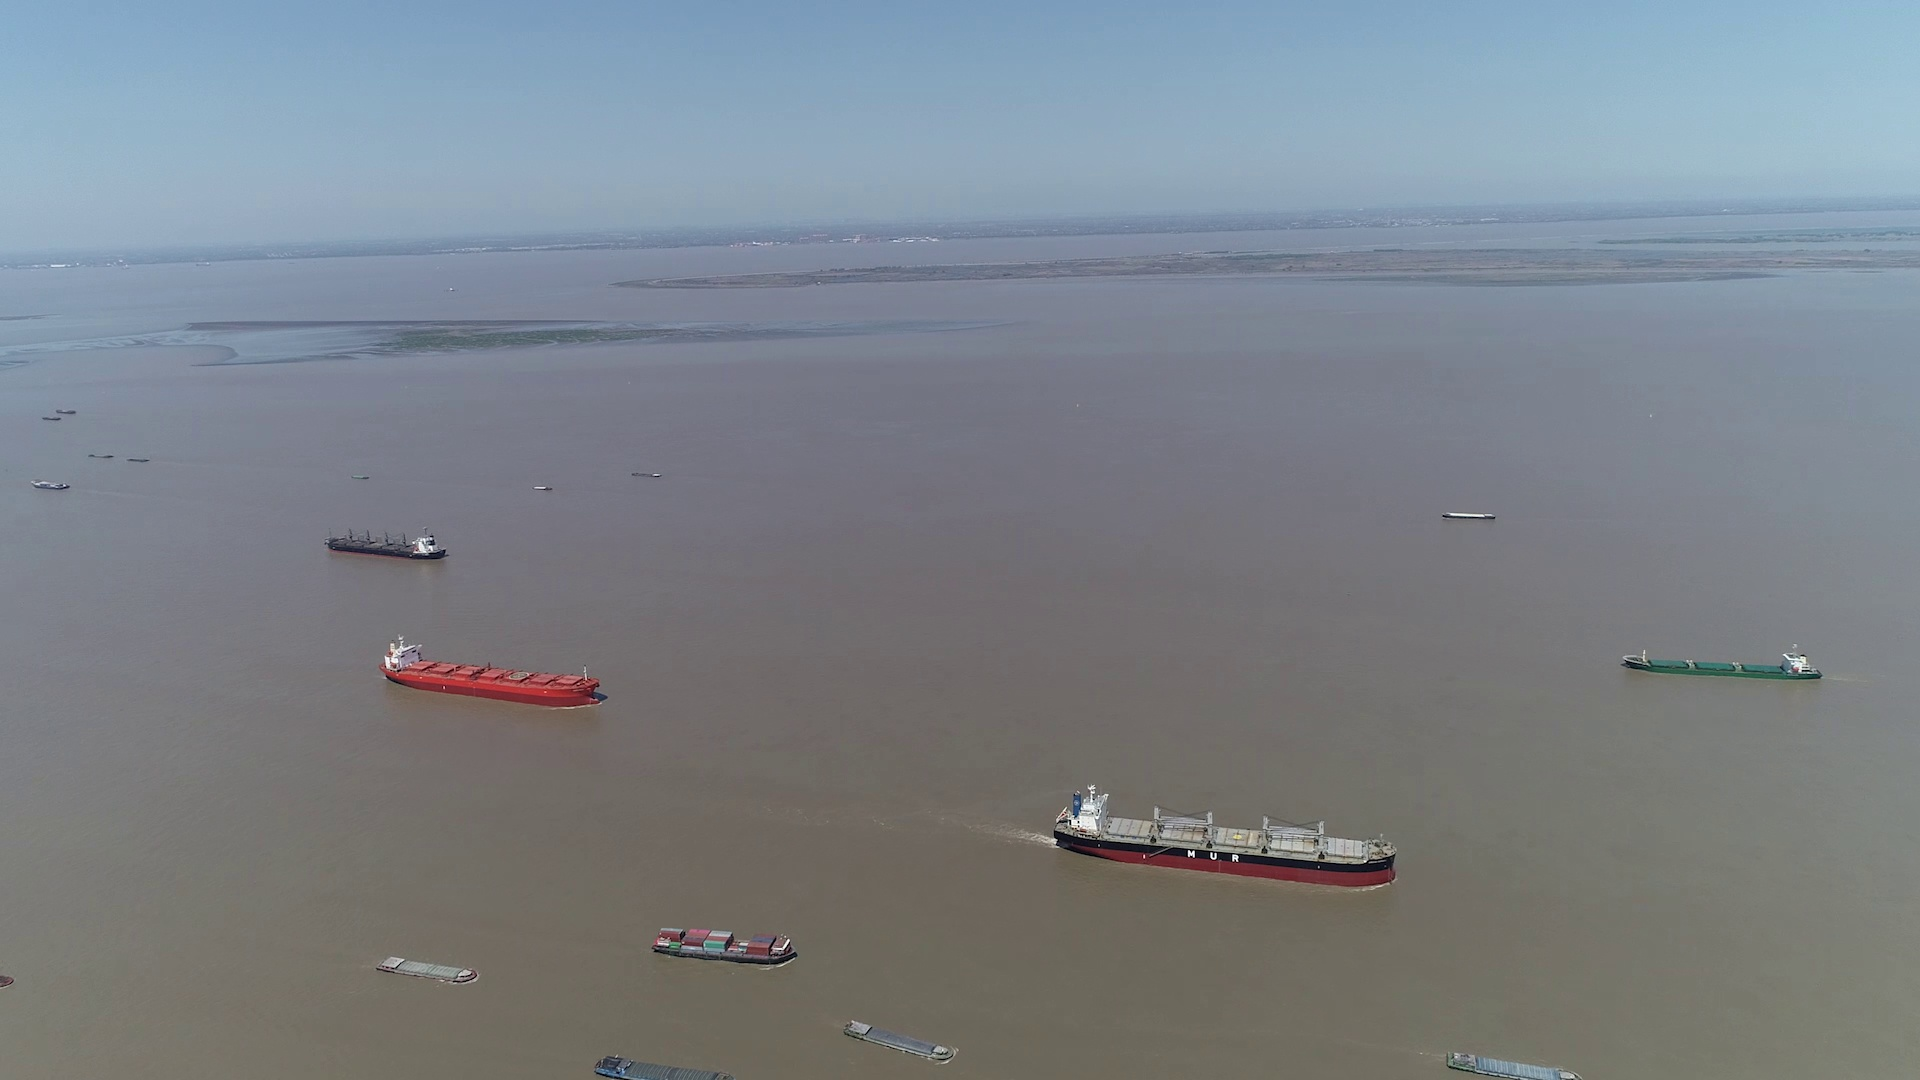ship: (1054, 785, 1400, 885), (378, 638, 599, 705), (1622, 650, 1822, 680), (651, 928, 796, 965), (845, 1021, 957, 1063), (324, 527, 447, 560), (1447, 1051, 1577, 1079), (599, 1055, 731, 1080), (375, 953, 477, 982), (1444, 512, 1495, 521), (34, 479, 73, 491), (530, 484, 549, 491)
